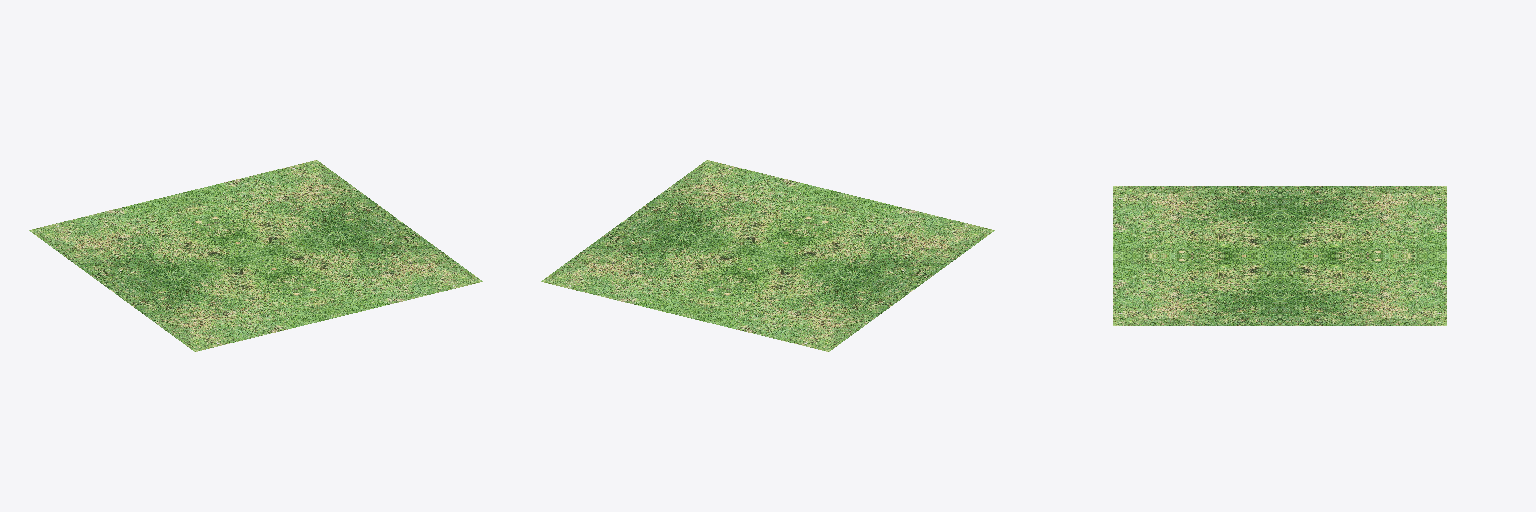
3 views of the same model, side by side, from view 1: azimuth 30°, elevation 25°; view 2: azimuth 150°, elevation 25°; view 3: azimuth 270°, elevation 25° (orthographic).
Parts seen in each view (by area): view 1: grass_texture; view 2: grass_texture; view 3: grass_texture.
Part boxes in pixels (x1,y1,x2,y2): grass_texture: (29, 160, 482, 351); grass_texture: (541, 160, 994, 351); grass_texture: (1113, 186, 1446, 325).
Size of the model in its own units: 20 by 0 by 20.
1 materials, 1 textured.